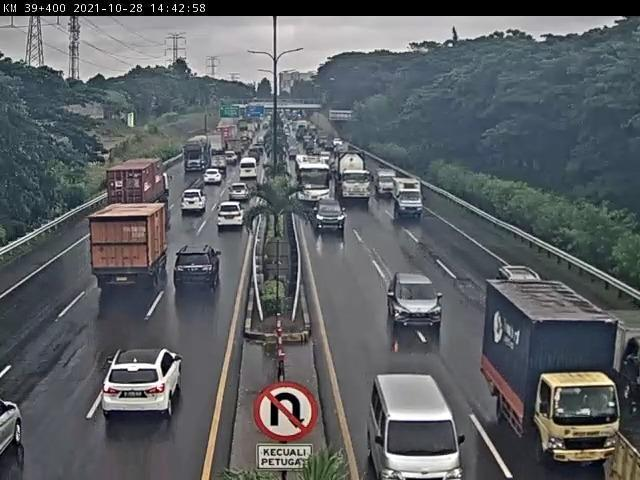bus: (298, 158, 337, 213)
car: (369, 372, 467, 480), (103, 348, 184, 418), (389, 273, 445, 338), (496, 267, 554, 315), (175, 245, 224, 293), (315, 201, 347, 239), (219, 200, 248, 232), (182, 188, 209, 216), (230, 180, 249, 199), (204, 169, 223, 186)
truck: (481, 279, 622, 468), (90, 204, 173, 291), (109, 159, 174, 220), (336, 150, 379, 210), (398, 180, 429, 223), (380, 171, 403, 204)
